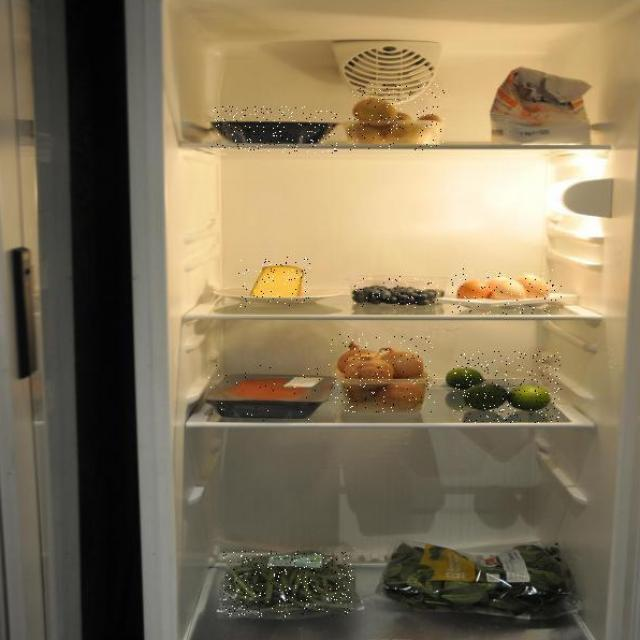Huevos: (452, 269, 562, 316)
Queso: (238, 257, 311, 307)
